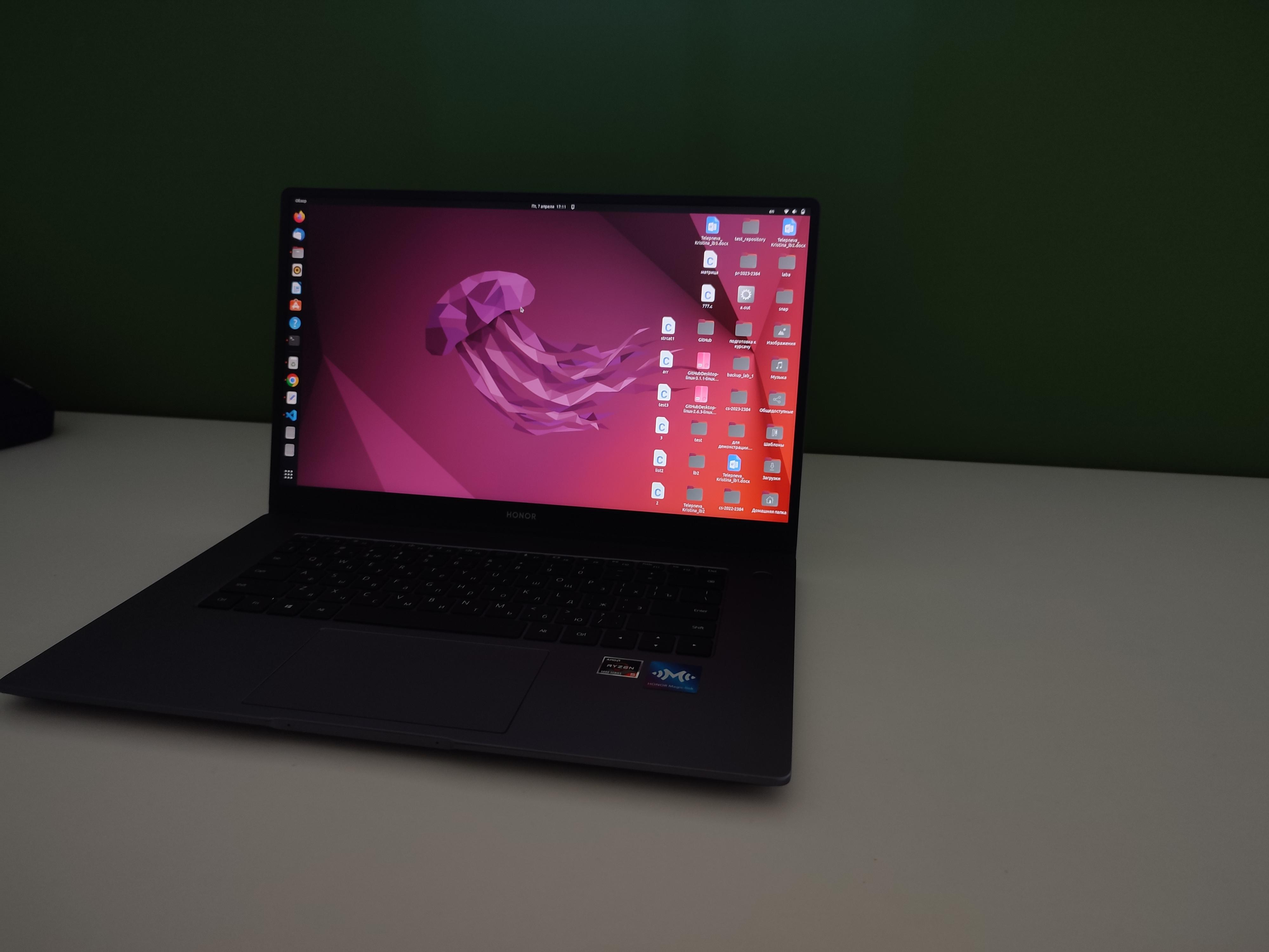monitor: (263, 175, 826, 546)
